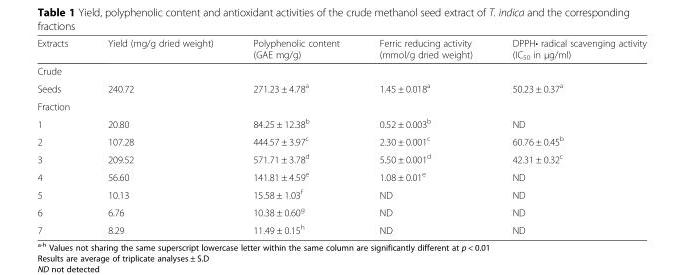table: (36, 37, 646, 235)
table column: (491, 37, 646, 235), (87, 37, 232, 235), (358, 37, 491, 235), (232, 37, 358, 235), (36, 37, 87, 235)
table column header: (36, 37, 646, 62)
table projected row header: (36, 97, 646, 114), (36, 62, 646, 78)
table row: (36, 37, 646, 62), (36, 78, 646, 97), (36, 131, 646, 149), (36, 149, 646, 167), (36, 184, 646, 202), (36, 202, 646, 220), (36, 97, 646, 114), (36, 114, 646, 131), (36, 167, 646, 184), (36, 62, 646, 78), (36, 220, 646, 235)
